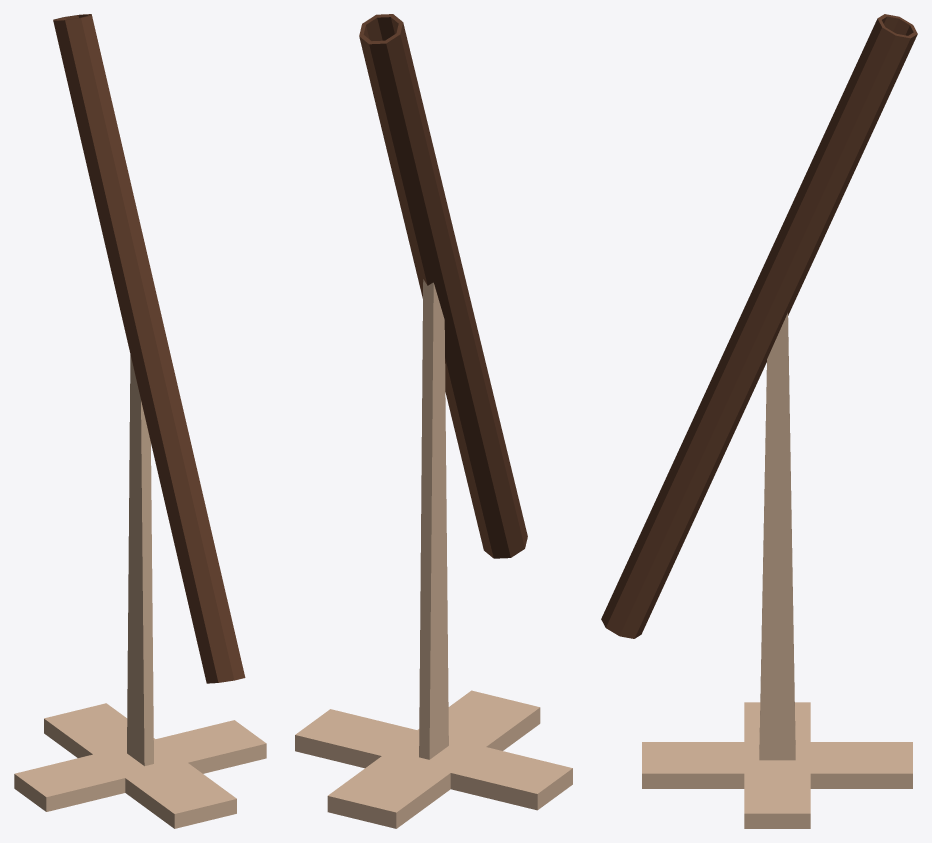
The model's file is didjeridoo.gltf.
3 views of the same model, side by side, from view 1: azimuth 30°, elevation 25°; view 2: azimuth 150°, elevation 25°; view 3: azimuth 270°, elevation 25° (orthographic). The views are drawn at different scales.
Visible parts, largest first — view 1: Cube; view 2: Cube; view 3: Cube.
Boxes of the visible parts, x1,y1,x2,y2 form: Cube: [14, 14, 266, 828]; Cube: [295, 14, 572, 828]; Cube: [601, 14, 917, 828].
Size of the model in its own units: 0.408 by 1.28 by 0.4904.
1 material, 1 textured.
